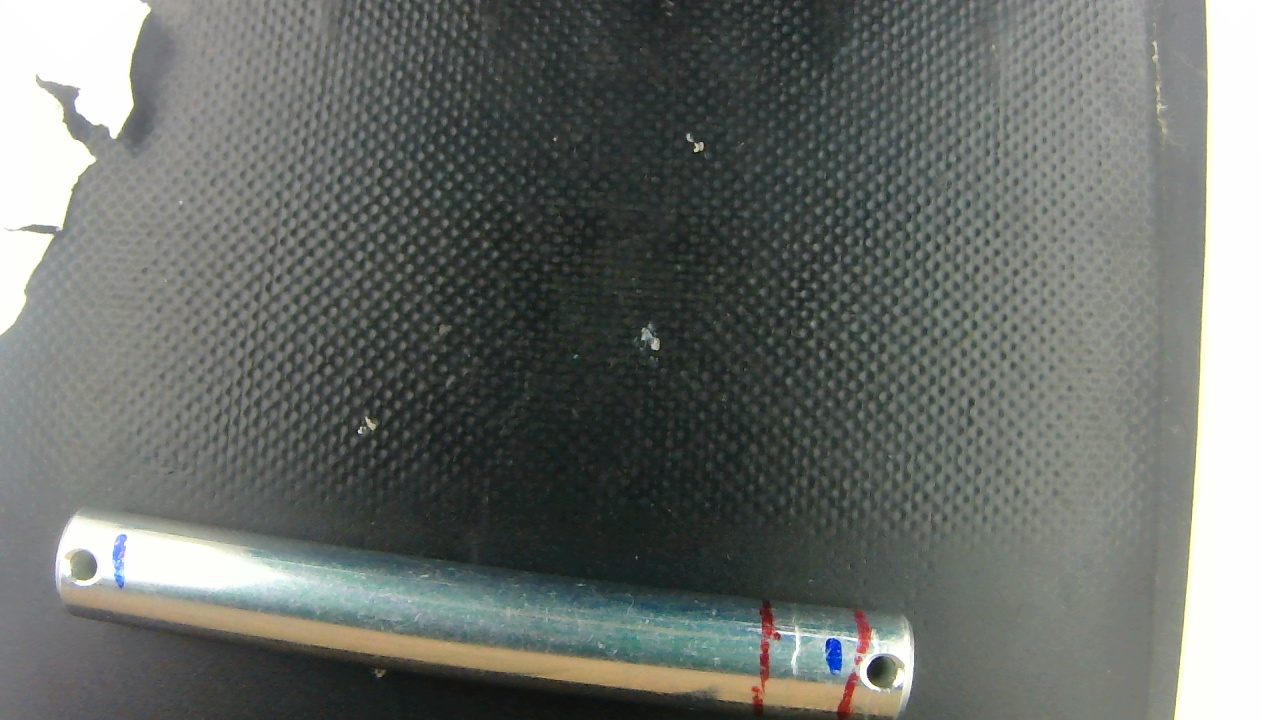odlinemark_pin: (781, 615, 809, 686)
